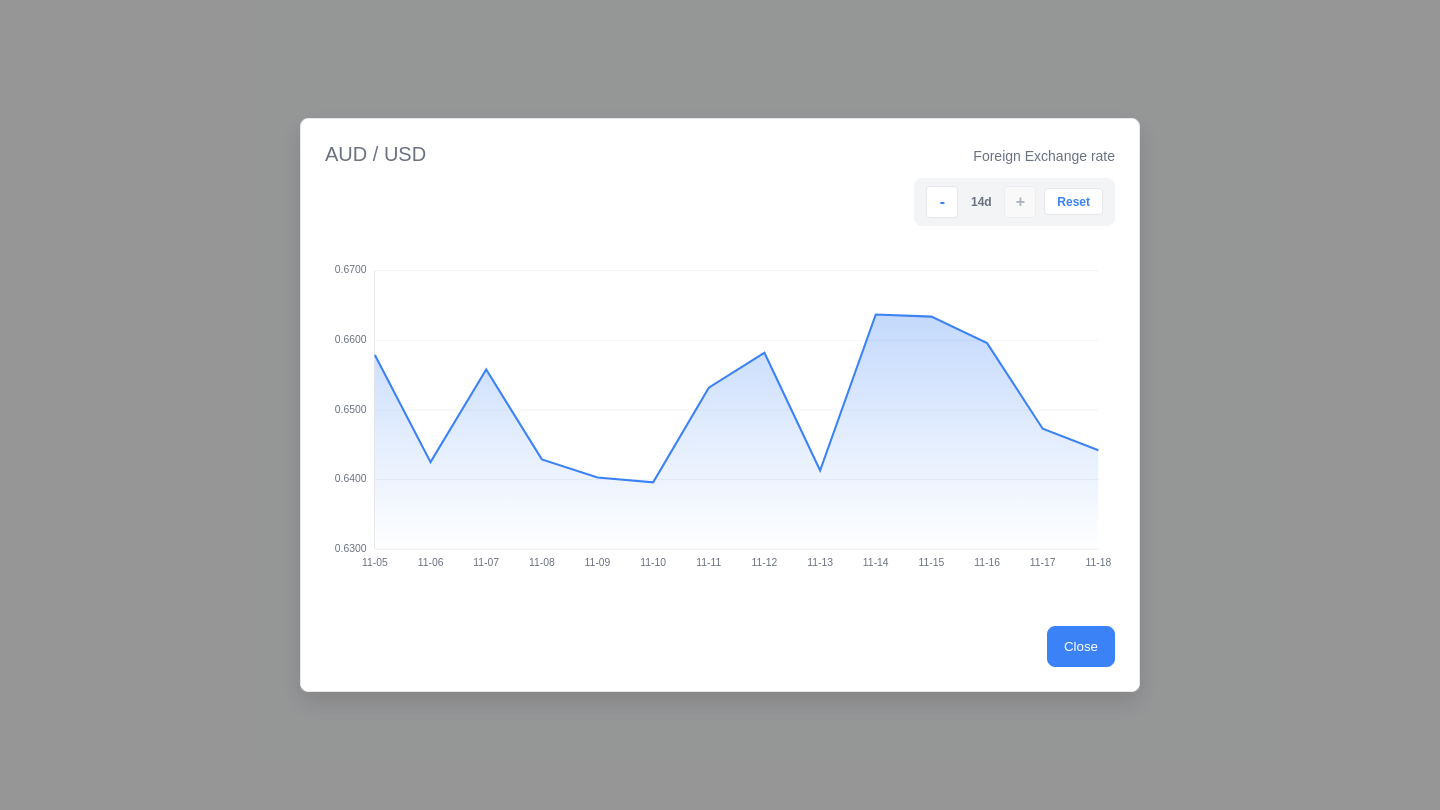
Scenario: ChartModal › Zoom Controls › zoom in reduces window size
Click the button "-".
click(942, 202)  # box [926,186,958,218]
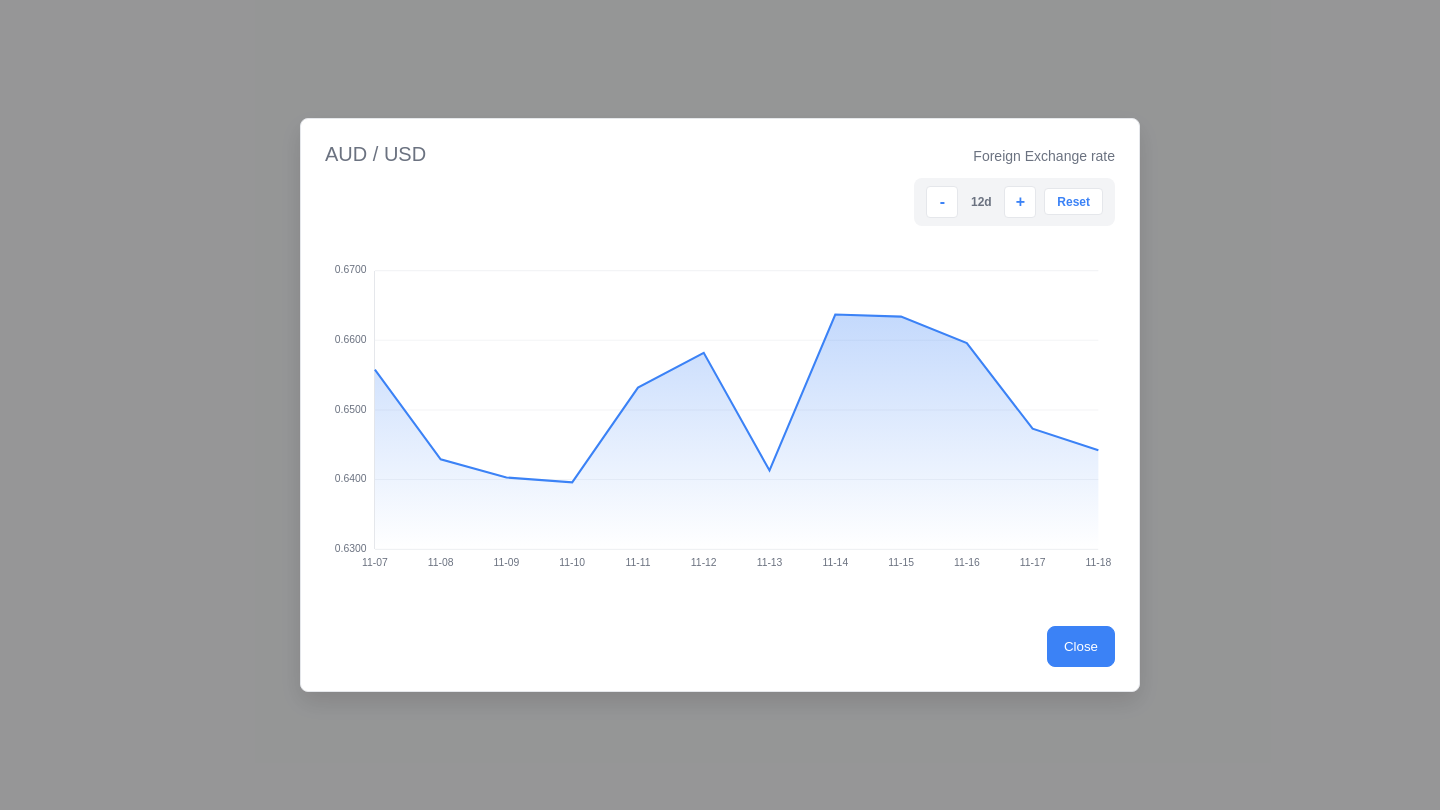
Check: the text "12d" is shown, box [971,195,992,209]
